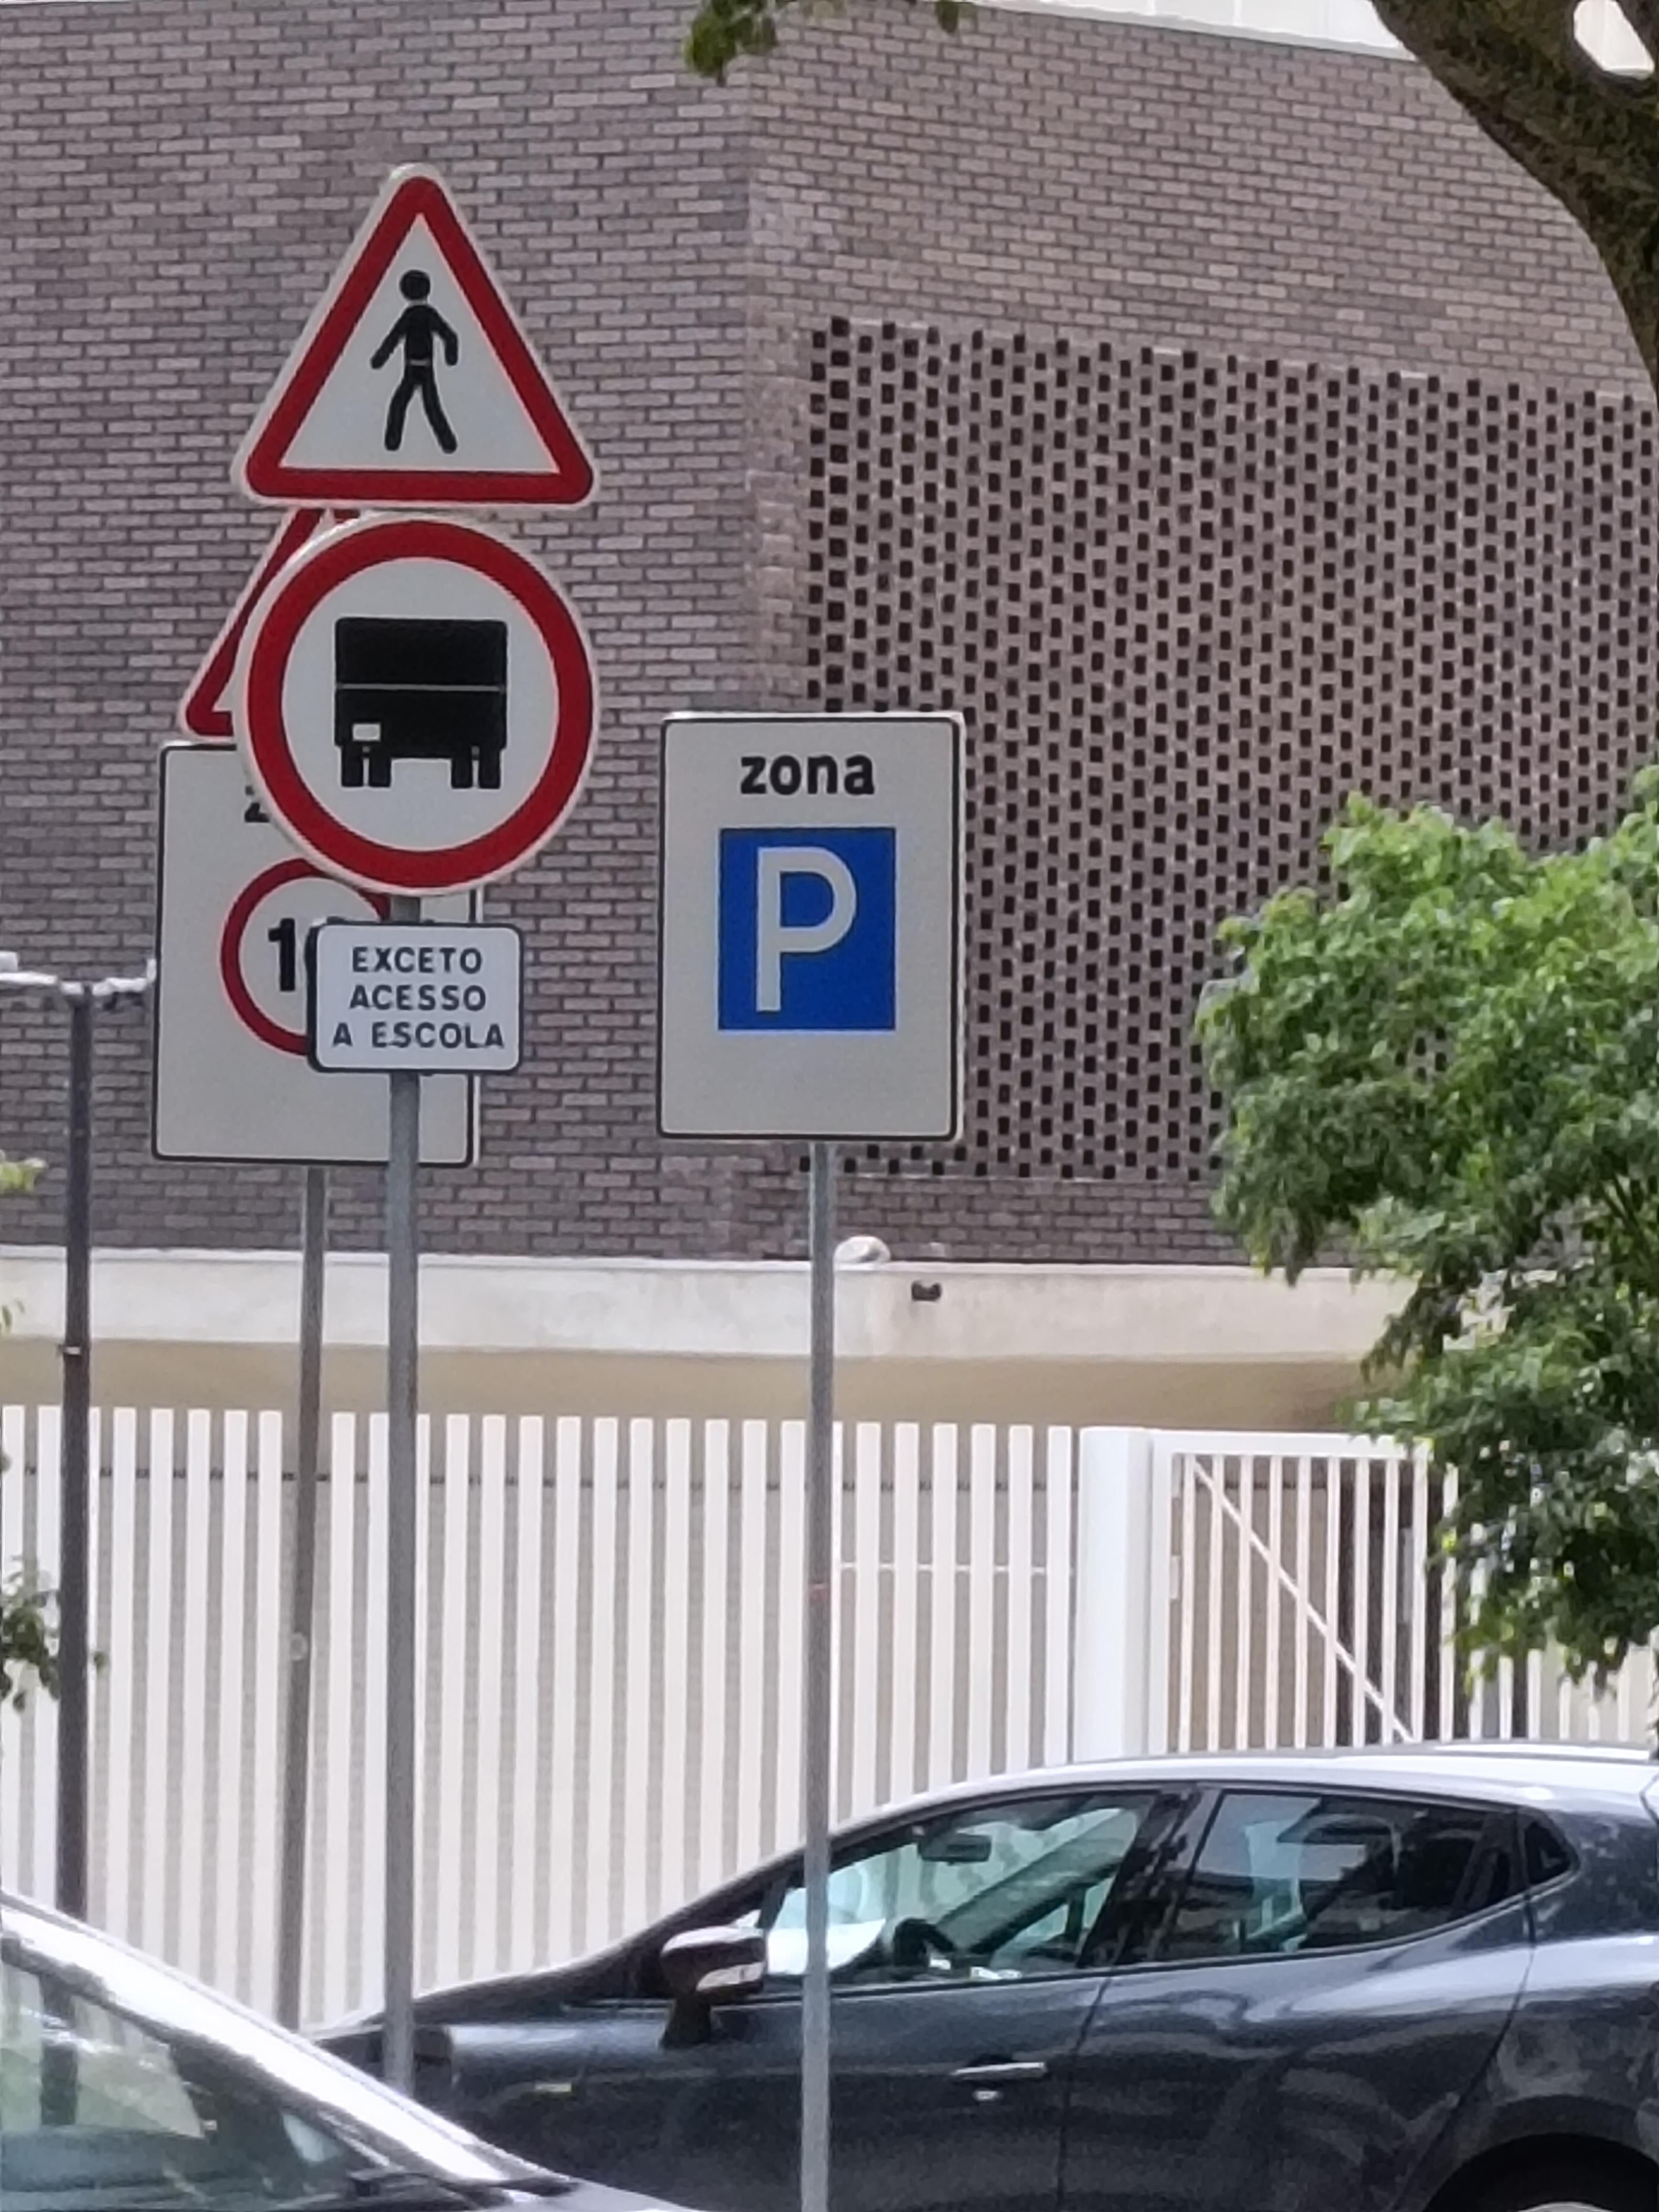transito proibido a automoveis pesados: (230, 493, 598, 885)
travessia de peoes: (210, 158, 617, 517)
zona de estacionamento autorizado: (670, 708, 966, 1148)
